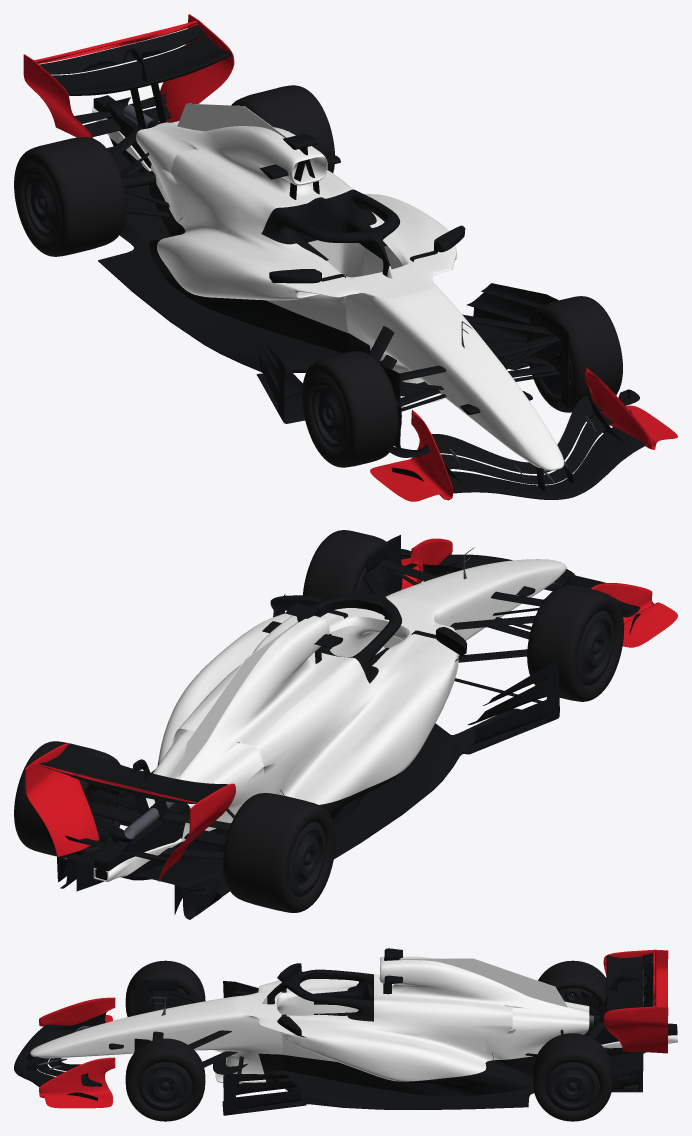
The model's file is hermes-hm27-game.glb.
3 renders of one model, top to bottom at view 1: azimuth 30°, elevation 25°; view 2: azimuth 150°, elevation 25°; view 3: azimuth 270°, elevation 25°, orthographic. The views are drawn at different scales.
Parts seen in each view (by area): view 1: Body_Paint, Floor_Carbon, Body_Carbon, FrontWing_Carbon, RearWing_Carbon, Wheel_RR_Tyre, Wheel_FR_Tyre, Suspension_Carbon, RearWing_Accent, FrontWing_Accent, Wheel_FL_Tyre, Wheel_RL_Tyre (+4 smaller); view 2: Body_Paint, Floor_Carbon, Wheel_RR_Tyre, Body_Carbon, Suspension_Carbon, RearWing_Accent, Wheel_FR_Tyre, RearWing_Carbon, FrontWing_Accent, Wheel_FL_Tyre, Wheel_RL_Tyre, Halo_Carbon (+4 smaller); view 3: Body_Paint, Floor_Carbon, Body_Carbon, FrontWing_Accent, RearWing_Accent, Wheel_RL_Tyre, Wheel_FL_Tyre, RearWing_Carbon, Suspension_Carbon, FrontWing_Carbon, Halo_Carbon, Wheel_FL_Rim (+5 smaller).
Boxes of the visible parts, bbox=[...] form: Body_Paint: bbox=[92, 103, 564, 470]; Floor_Carbon: bbox=[98, 146, 558, 423]; Body_Carbon: bbox=[93, 95, 532, 414]; FrontWing_Carbon: bbox=[386, 389, 645, 499]; RearWing_Carbon: bbox=[39, 25, 231, 136]; Wheel_RR_Tyre: bbox=[14, 137, 126, 256]; Wheel_FR_Tyre: bbox=[302, 351, 398, 467]; Suspension_Carbon: bbox=[109, 122, 571, 447]; RearWing_Accent: bbox=[23, 14, 234, 138]; FrontWing_Accent: bbox=[370, 367, 677, 501]; Wheel_FL_Tyre: bbox=[526, 296, 622, 412]; Wheel_RL_Tyre: bbox=[231, 85, 334, 172]; Body_Paint: bbox=[93, 559, 566, 881]; Floor_Carbon: bbox=[57, 594, 559, 919]; Wheel_RR_Tyre: bbox=[223, 793, 335, 912]; Body_Carbon: bbox=[76, 586, 535, 914]; Suspension_Carbon: bbox=[88, 535, 569, 876]; RearWing_Accent: bbox=[24, 743, 235, 881]; Wheel_FR_Tyre: bbox=[527, 585, 624, 701]; RearWing_Carbon: bbox=[37, 744, 228, 863]; FrontWing_Accent: bbox=[401, 538, 677, 647]; Wheel_FL_Tyre: bbox=[303, 530, 386, 600]; Wheel_RL_Tyre: bbox=[14, 741, 126, 858]; Halo_Carbon: bbox=[312, 593, 401, 683]; Body_Paint: bbox=[30, 956, 677, 1083]; Floor_Carbon: bbox=[213, 981, 643, 1115]; Body_Carbon: bbox=[109, 948, 677, 1095]; FrontWing_Accent: bbox=[39, 997, 115, 1108]; RearWing_Accent: bbox=[603, 949, 668, 1053]; Wheel_RL_Tyre: bbox=[533, 1033, 612, 1121]; Wheel_FL_Tyre: bbox=[125, 1038, 205, 1121]; RearWing_Carbon: bbox=[596, 953, 653, 1027]; Suspension_Carbon: bbox=[133, 979, 608, 1088]; FrontWing_Carbon: bbox=[14, 1012, 106, 1100]; Halo_Carbon: bbox=[267, 969, 373, 1021]; Wheel_FL_Rim: bbox=[138, 1062, 192, 1110].
Size of the model in its own units: 1.88 by 1.15 by 5.54.
